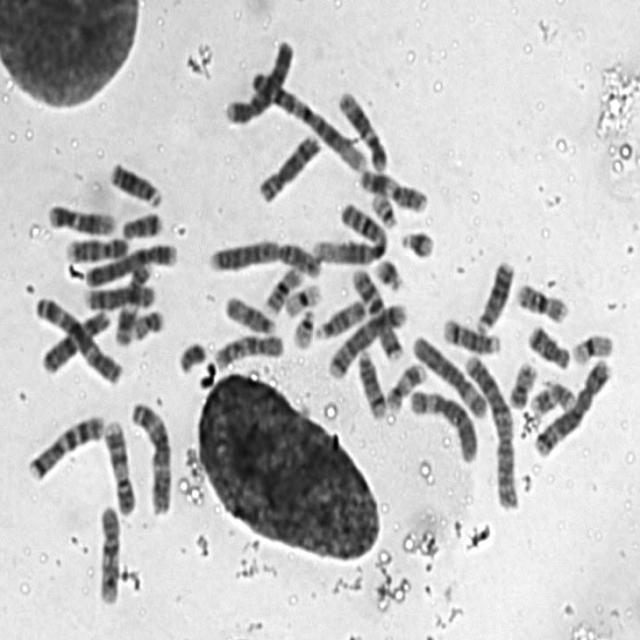A1: (252, 72, 367, 172), (312, 202, 388, 265)
A2: (462, 355, 519, 512), (207, 237, 323, 280)
A3: (34, 297, 123, 383), (130, 400, 174, 516)
B4: (225, 40, 294, 128), (84, 244, 180, 290)
B5: (534, 358, 613, 460), (327, 304, 407, 378)
C10: (215, 334, 286, 373), (96, 504, 122, 607)
C11: (116, 260, 155, 346), (360, 169, 428, 212)
C12: (336, 89, 388, 172), (48, 200, 118, 234)
C6: (411, 335, 488, 418), (409, 390, 478, 463)
C7: (347, 268, 403, 362), (26, 417, 106, 480)
C8: (251, 136, 321, 203), (82, 286, 156, 312)
C9: (104, 420, 136, 516), (63, 236, 129, 265)
D13: (476, 261, 516, 333), (107, 160, 164, 210)
D14: (440, 316, 502, 355), (356, 349, 390, 418)
D15: (314, 300, 365, 341), (224, 295, 277, 334)
E16: (516, 281, 568, 325), (264, 266, 306, 314)
E17: (387, 362, 425, 412), (530, 383, 580, 418)
E18: (528, 320, 571, 370), (123, 214, 162, 240)
F19: (571, 333, 616, 366), (285, 283, 321, 317)
F20: (508, 362, 538, 409), (133, 309, 165, 343)
G21: (400, 230, 435, 262), (376, 258, 404, 294)
G22: (371, 190, 398, 229), (290, 309, 315, 348)
X: (41, 309, 112, 374)
Y: (179, 342, 207, 374)
